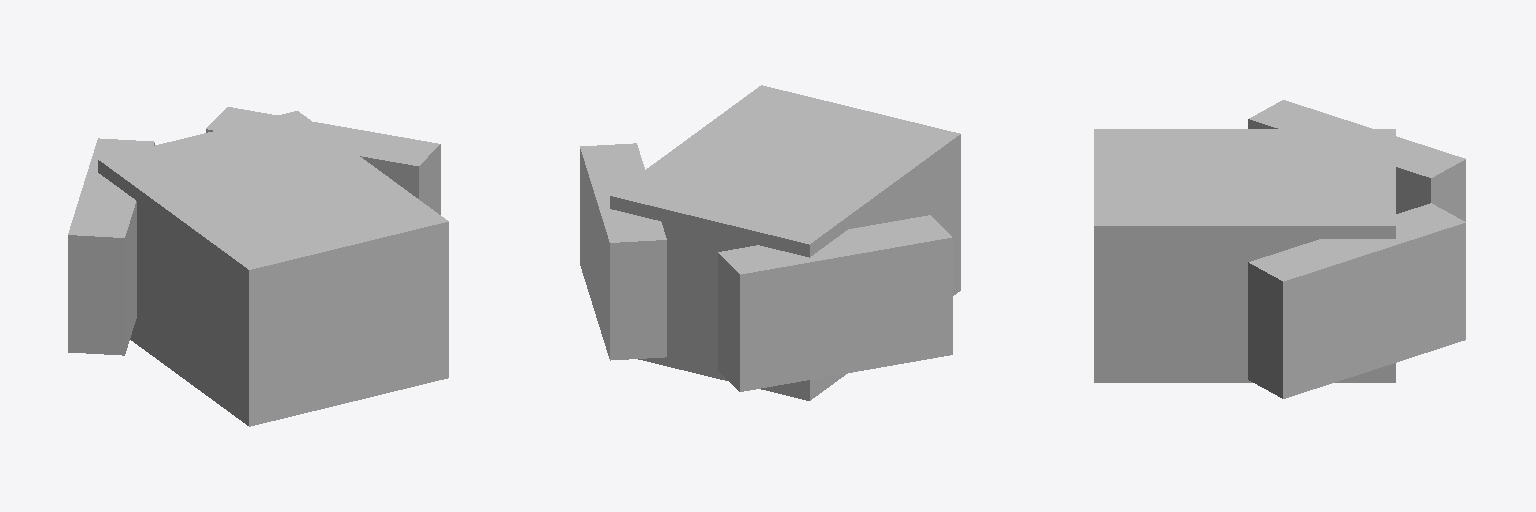
Rendered from custom_model.obj.
3 views of the same model, side by side, from view 1: azimuth 30°, elevation 25°; view 2: azimuth 150°, elevation 25°; view 3: azimuth 270°, elevation 25° (orthographic).
Parts seen in each view (by area): view 1: cube; view 2: cube; view 3: cube.
Part boxes in pixels (x1,y1,x2,y2): cube: (68,107,448,426); cube: (580,85,960,400); cube: (1094,100,1465,398).
Size of the model in its own units: 1.87 by 0.75 by 1.62.